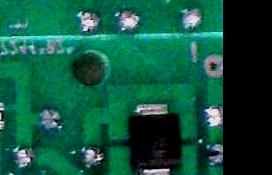diode: (129, 104, 180, 175)
